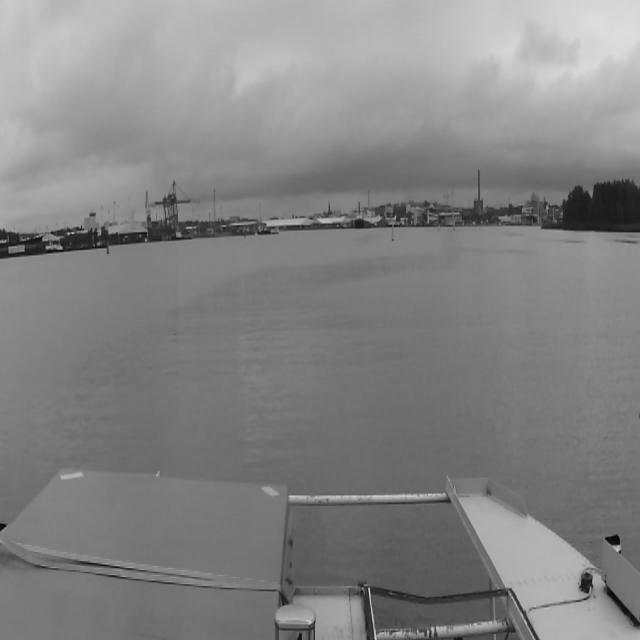buoy: (104, 240, 110, 256), (392, 223, 394, 240)
ship: (354, 199, 365, 229)
